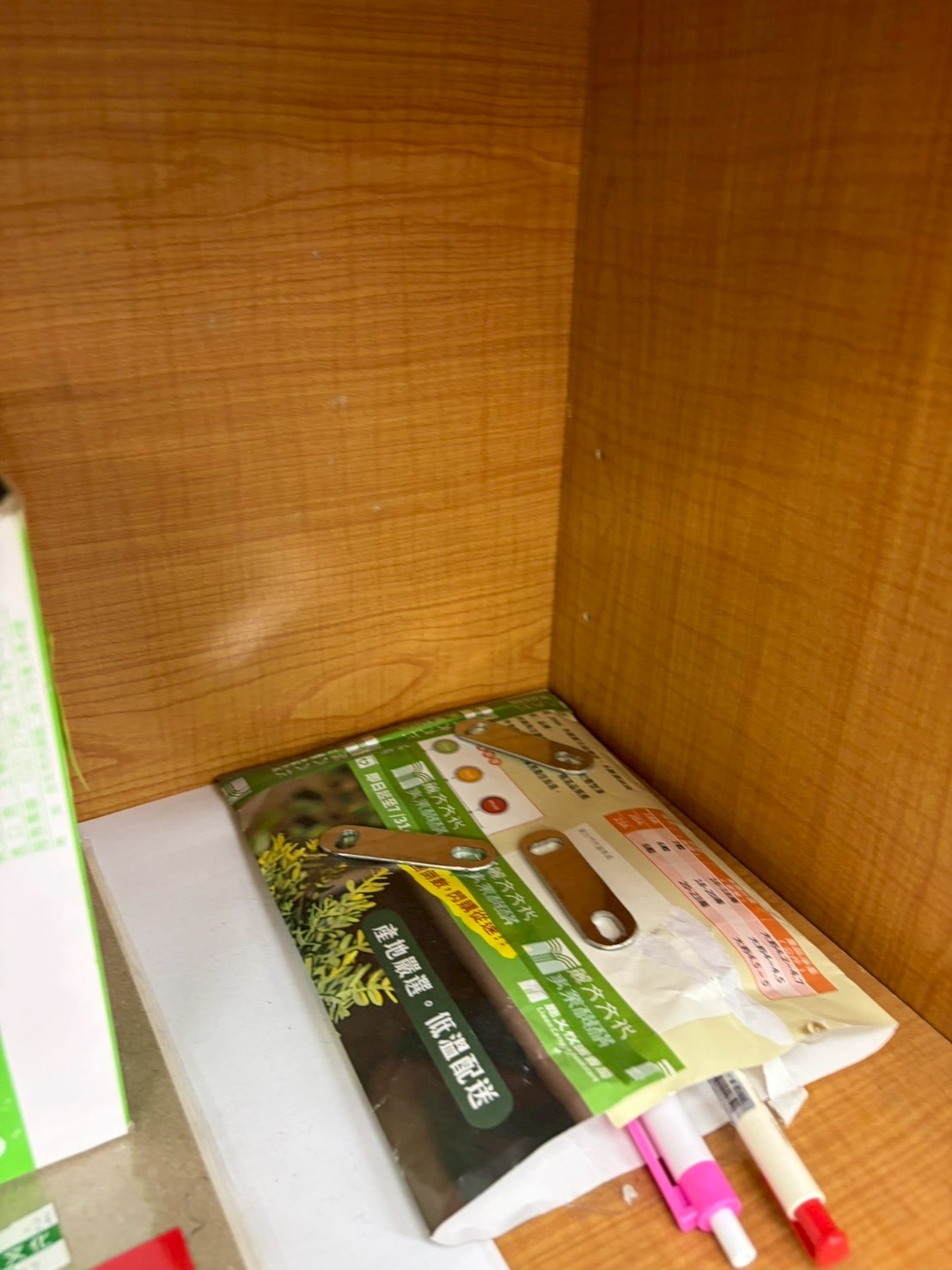Fe: (437, 685, 607, 783), (503, 817, 628, 949), (315, 817, 476, 871)
